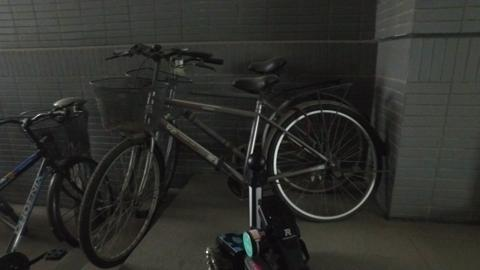bike: (81, 43, 381, 268)
chariot: (209, 154, 313, 270)
